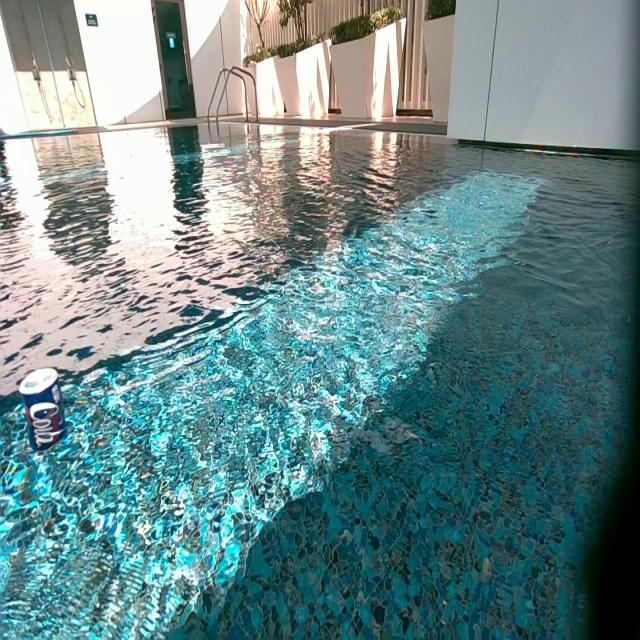Cans: (17, 366, 66, 425)
